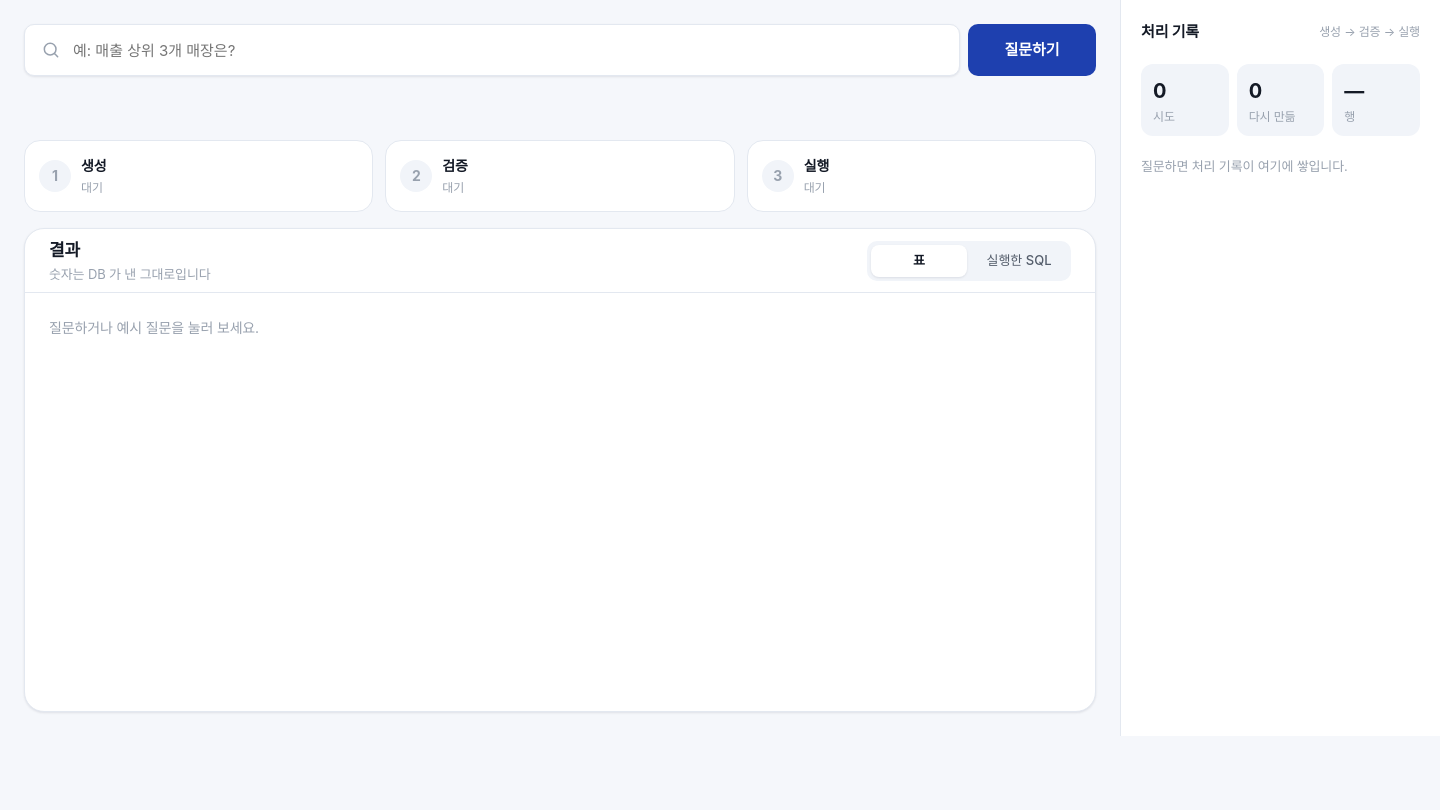
Test case: AskQuery › 입력하고 질문하기를 누르면 그 질문을 보낸다 (FR-001)
This screenshot has width=1440, height=810.
Type "zzz 직접 쓴 질문" into the field named "질문". click: (507, 50)
box: [71,25,943,75]
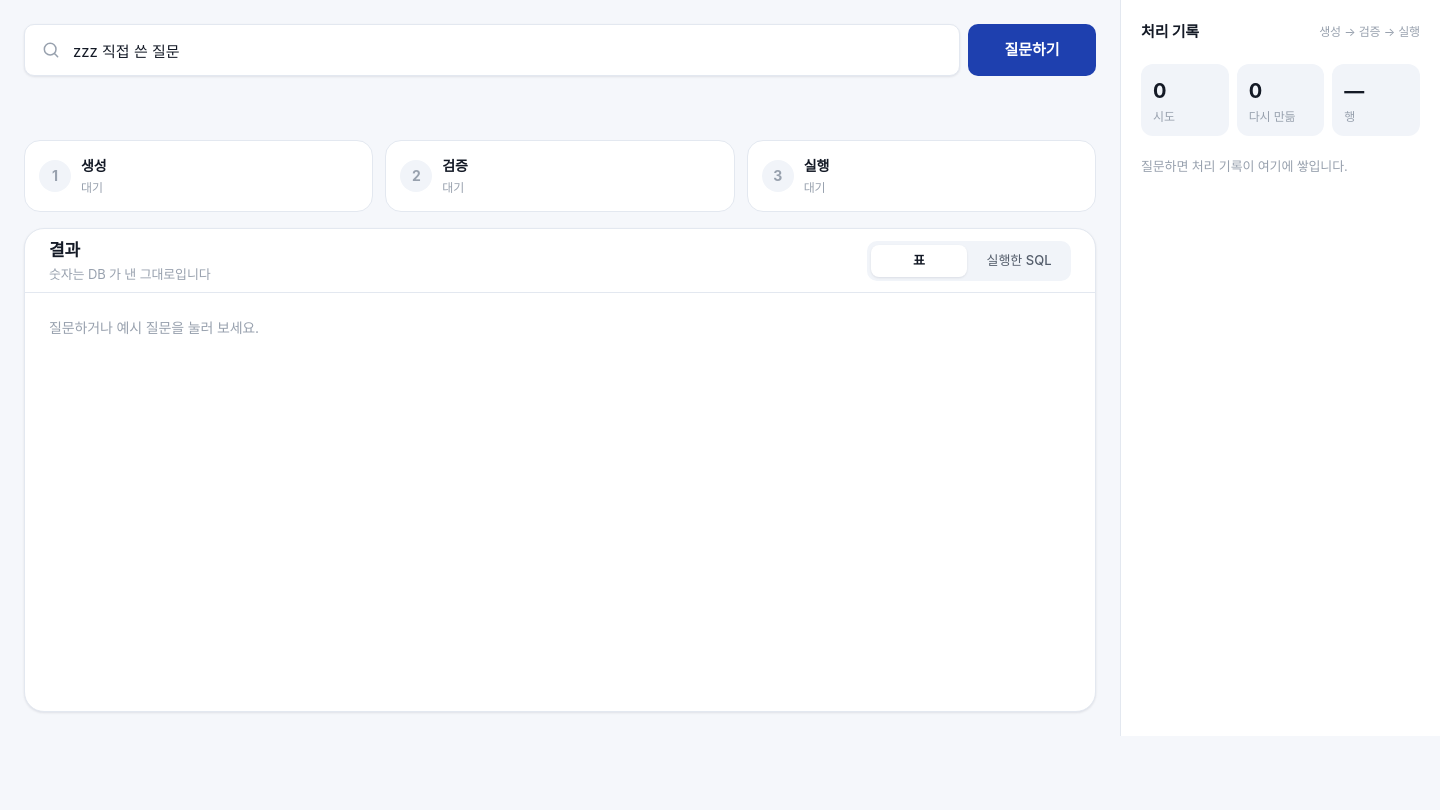
Click the button "질문하기". click: (1032, 50)
box: [968,24,1096,76]
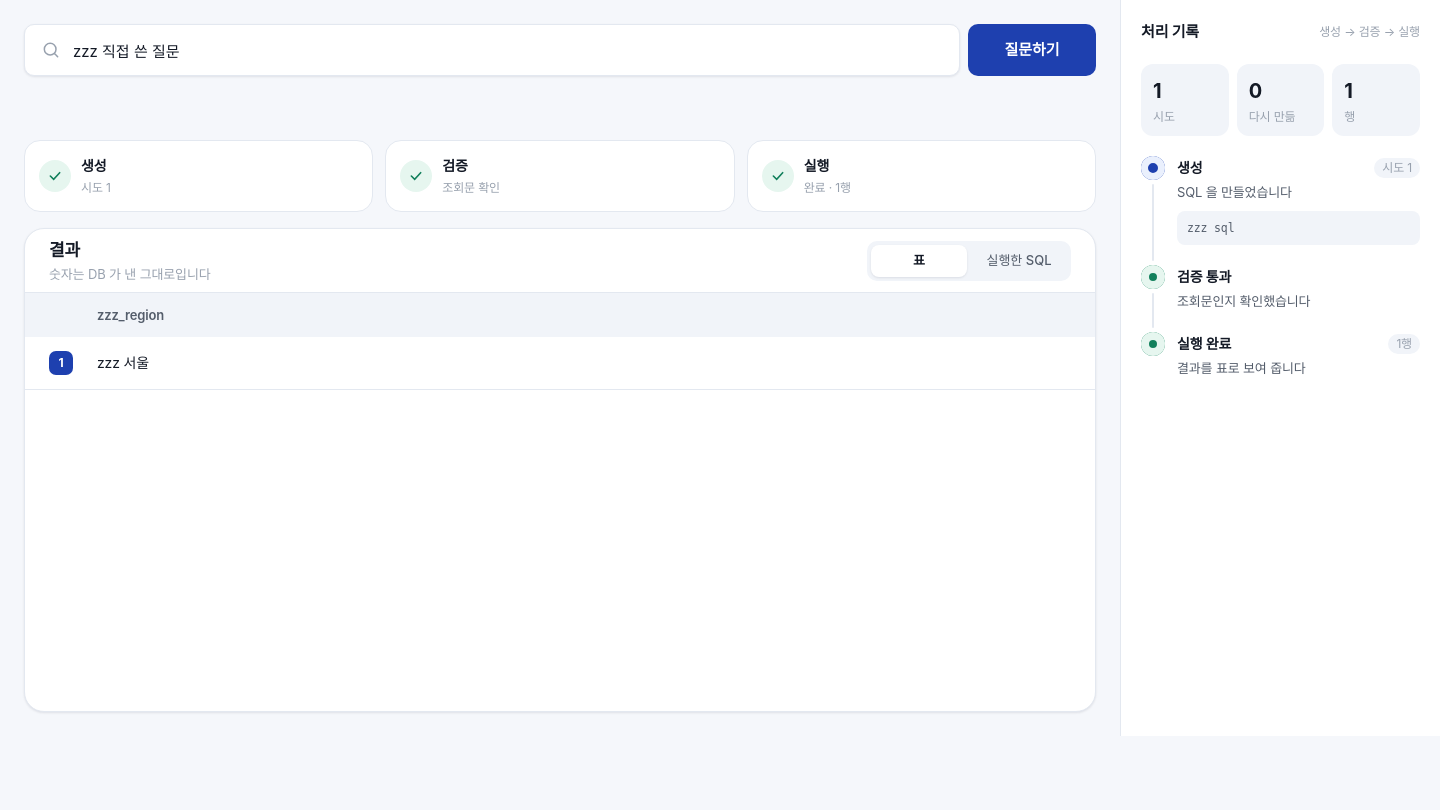
Check: the cell "zzz 서울" is shown, box [73,337,1095,389]
